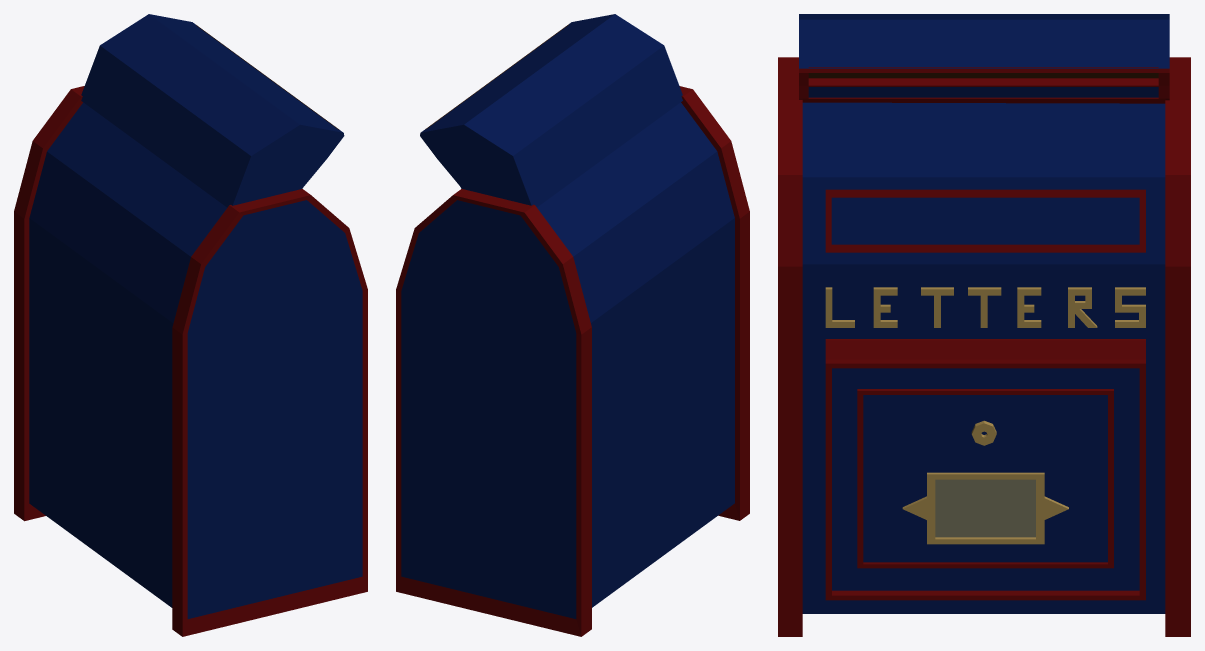
Rendered from mailbox.fbx.
3 renders of one model, left to right at view 1: azimuth 30°, elevation 25°; view 2: azimuth 150°, elevation 25°; view 3: azimuth 270°, elevation 25°, orthographic. The views are drawn at different scales.
Parts seen in each view (by area): view 1: mailbox; view 2: mailbox; view 3: mailbox.
Boxes of the visible parts, box(x1,y1,x2,y2) form: mailbox: box(14, 14, 367, 636); mailbox: box(396, 14, 749, 636); mailbox: box(778, 14, 1190, 636).
Size of the model in its own units: 267 by 644 by 414.
